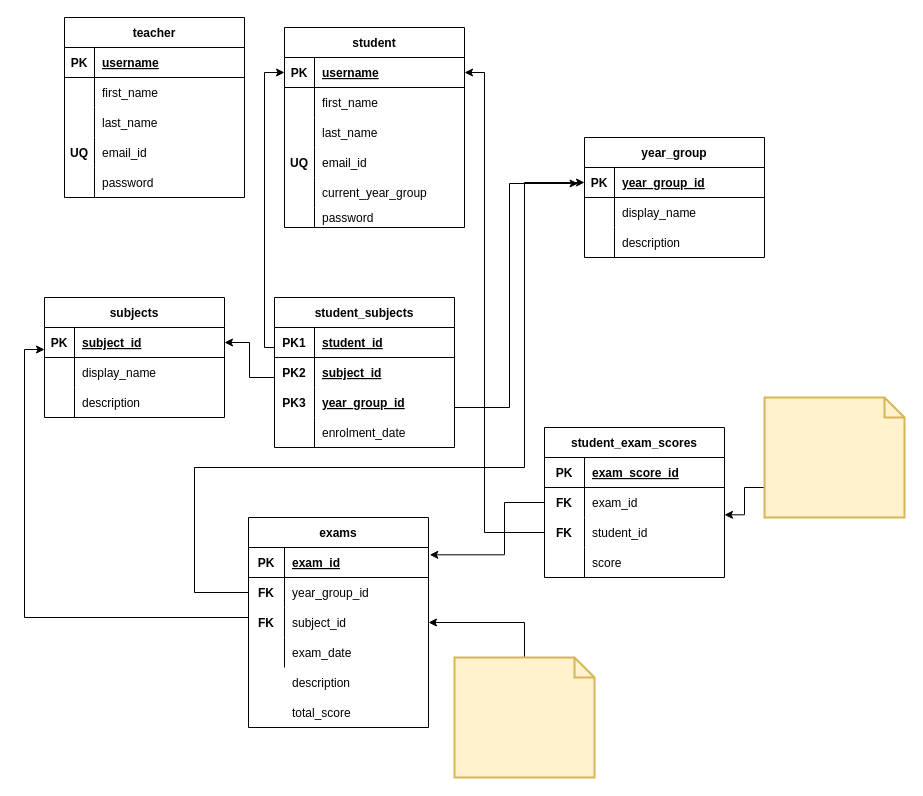
Some shapes in this 923 by 796 pixel diagram are drawn without their labels. Each missing label, with the centre of its shape:
exam_id + student_id also make Composite Unique key for exam_score table: the point at 834,457
year_group_id + subject_id + exam_date make Composite Unique key for exam table: the point at 524,717
